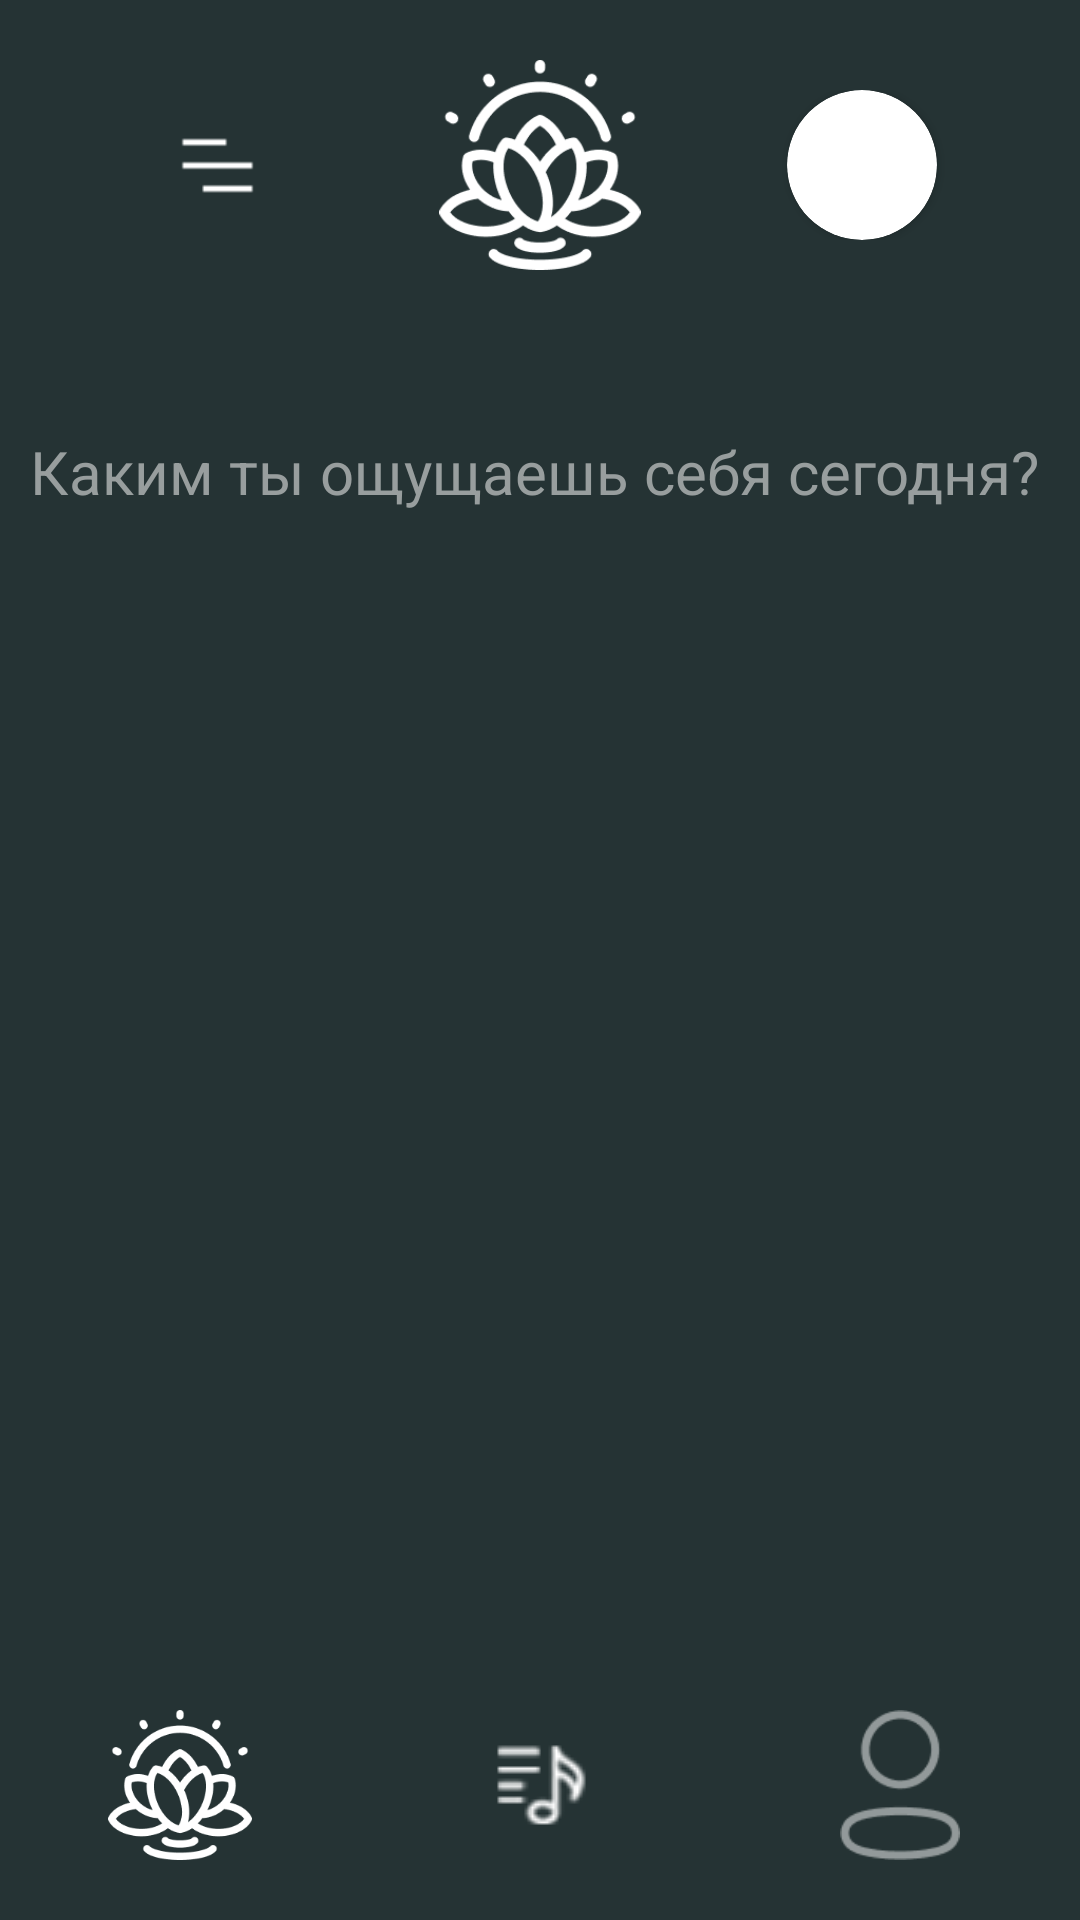

Named icons in this screenshot (1080×1920) and their bounding boxes, (x1, y1, x2, y2):
menu: (182, 138, 253, 193)
musik: (497, 1745, 586, 1825)
profile: (840, 1710, 960, 1860)
